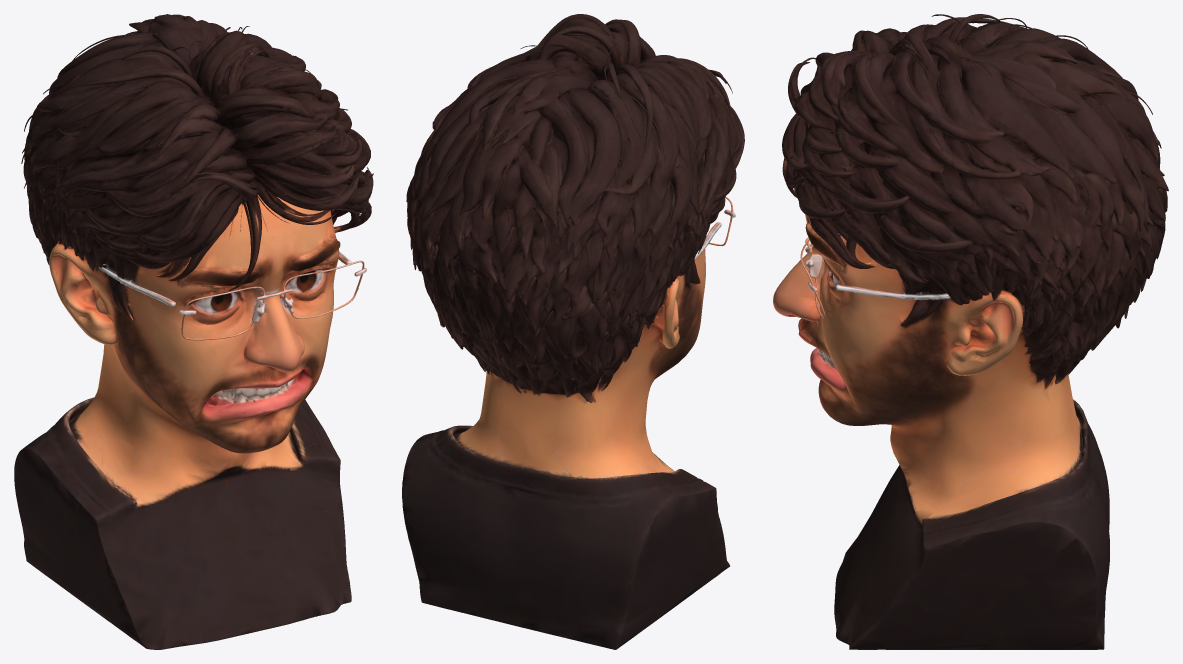
File: grimace_eyes.glb
3 renders of one model, left to right at view 1: azimuth 30°, elevation 25°; view 2: azimuth 150°, elevation 25°; view 3: azimuth 270°, elevation 25°, orthographic. The views are drawn at different scales.
Size of the model in its own units: 1.01 by 1.9 by 1.19.
1 material, 1 textured.
